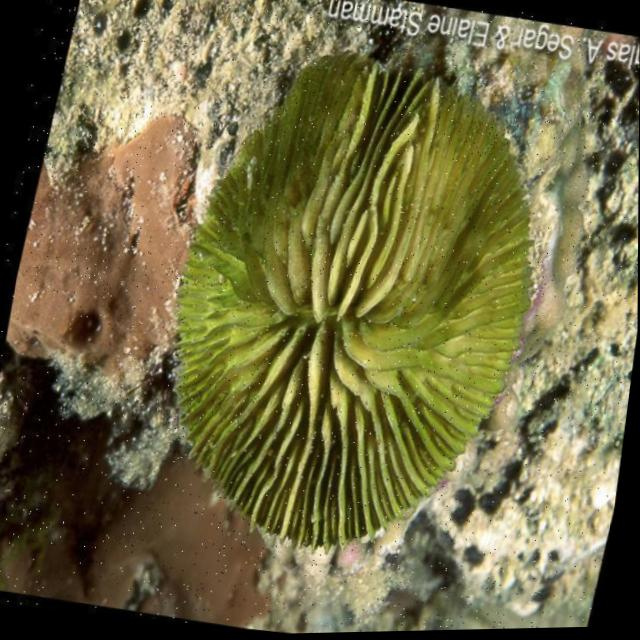Healthy Coral: (106, 18, 582, 612)
